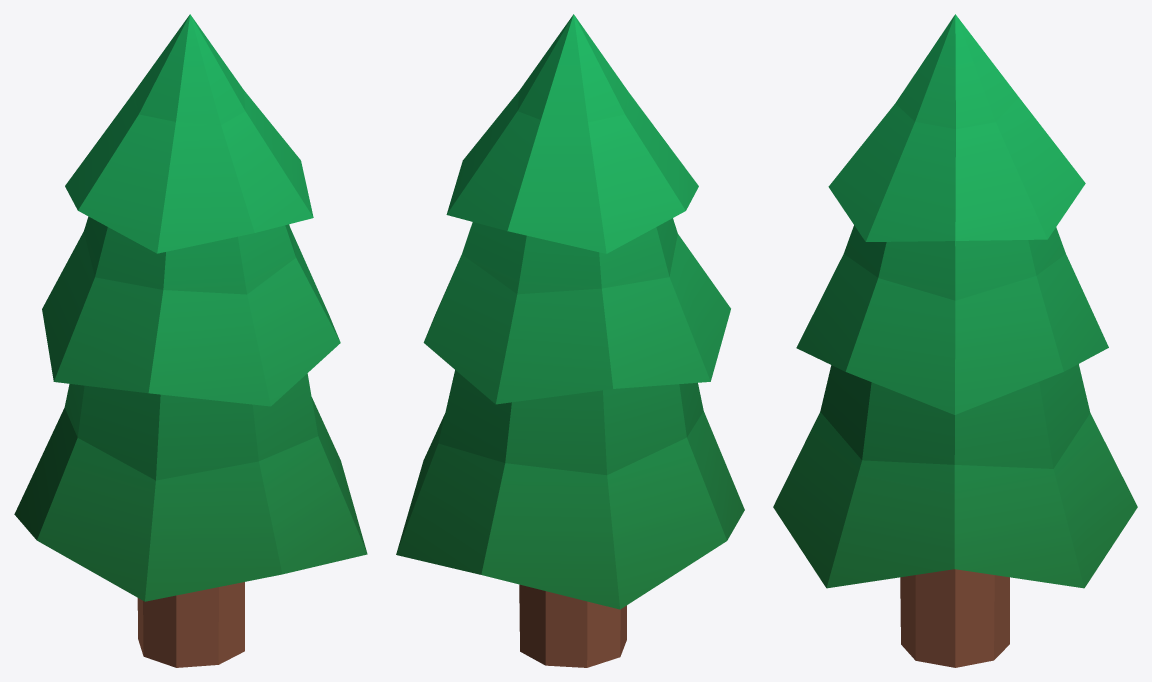
Rendered from Tree_01_gradient_green.fbx.
3 views of the same model, side by side, from view 1: azimuth 30°, elevation 25°; view 2: azimuth 150°, elevation 25°; view 3: azimuth 270°, elevation 25° (orthographic).
Parts seen in each view (by area): view 1: Tree_01_gradient_green; view 2: Tree_01_gradient_green; view 3: Tree_01_gradient_green.
Boxes of the visible parts, box(x1,y1,x2,y2) form: Tree_01_gradient_green: box(14, 14, 367, 667); Tree_01_gradient_green: box(396, 14, 744, 667); Tree_01_gradient_green: box(773, 14, 1137, 667).
Size of the model in its own units: 83.22 by 165 by 86.78.
